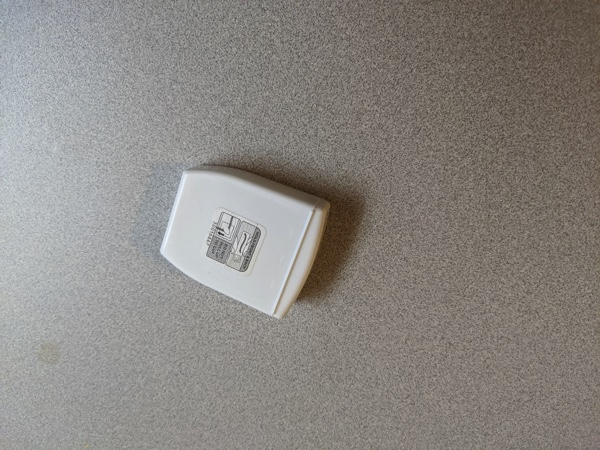plastic: (147, 147, 347, 337)
